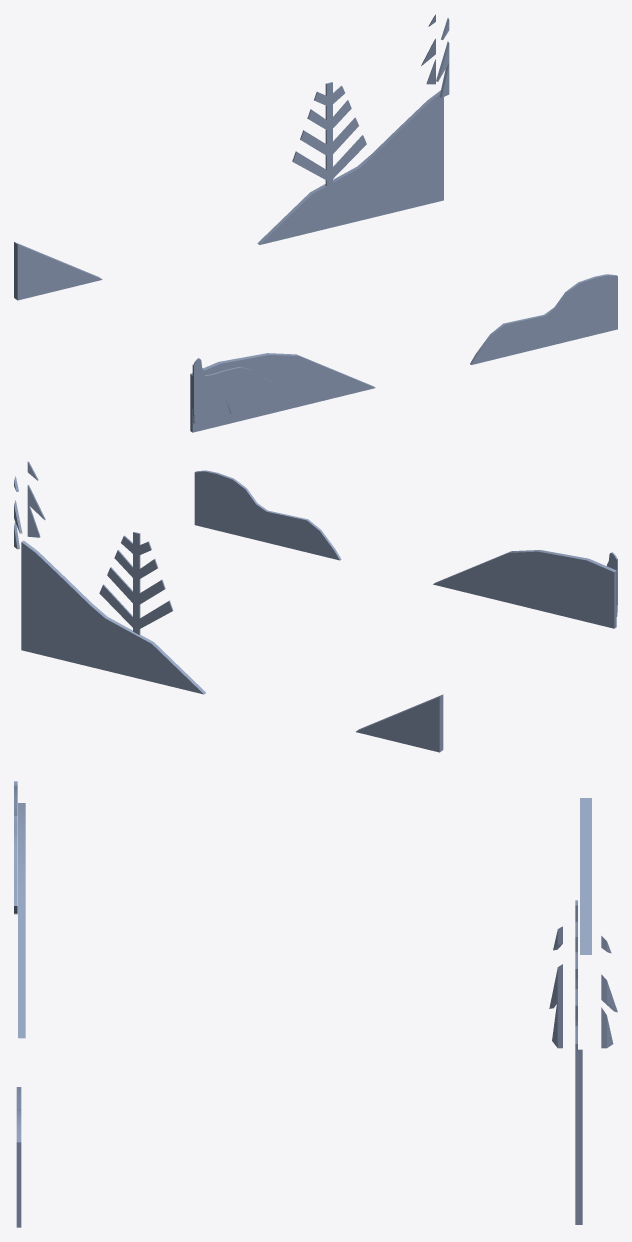
Rendered from frame_0240.glb.
3 views of the same model, one above another, from view 1: azimuth 30°, elevation 25°; view 2: azimuth 150°, elevation 25°; view 3: azimuth 270°, elevation 25° (orthographic). The views are drawn at different scales.
Visible parts, largest first — view 1: export_trees_001.002; view 2: export_trees_001.002; view 3: export_trees_001.002.
Boxes of the visible parts, x1,y1,x2,y2 form: export_trees_001.002: [14, 14, 617, 432]; export_trees_001.002: [14, 461, 617, 752]; export_trees_001.002: [14, 781, 617, 1227].
Bounding box in the file's own units: 0.4327 × 0.1826 × 0.3317.
